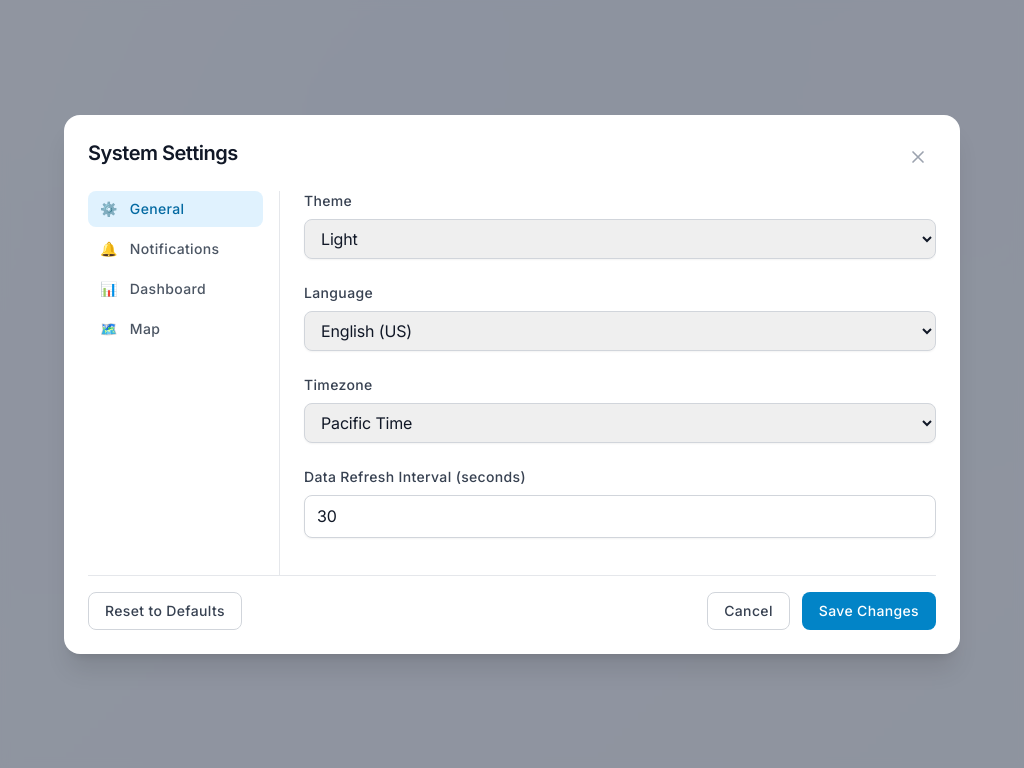
Test: SettingsPanel › switches to dashboard tab when clicked
Click the button "📊 Dashboard". click: click(176, 288)
box: [88,270,263,306]
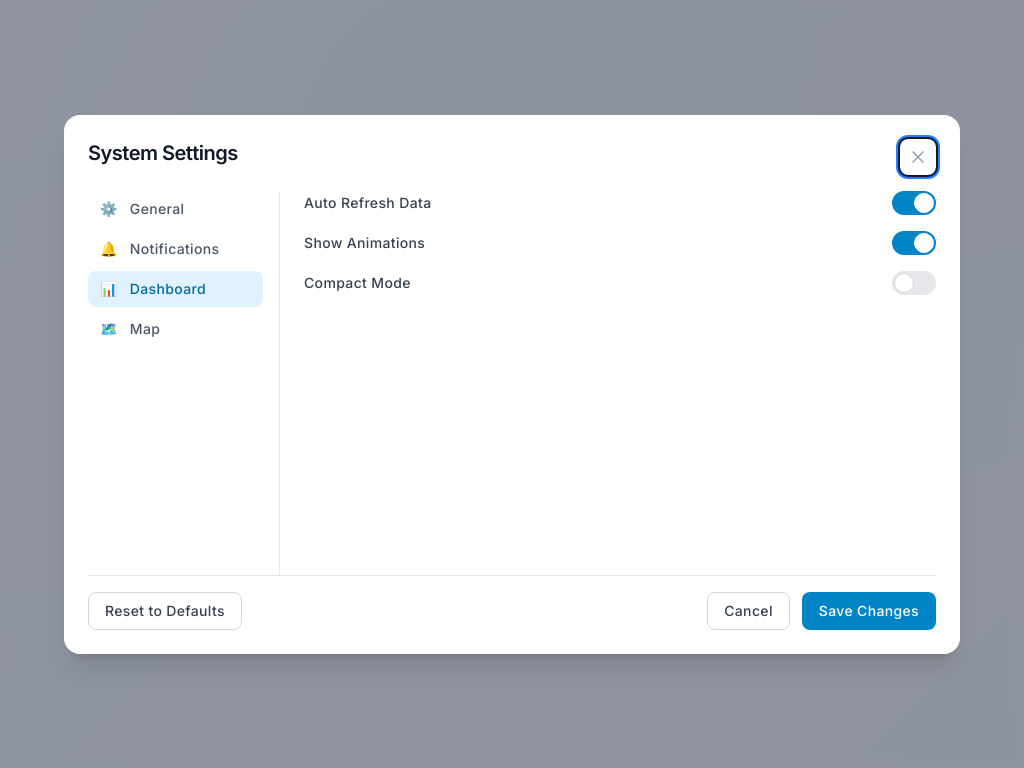
Expected: the text "Auto Refresh Data" is shown, [304,192,431,212]
Expected: the text "Show Animations" is shown, [304,232,425,252]
Expected: the text "Compact Mode" is shown, [304,272,411,292]
